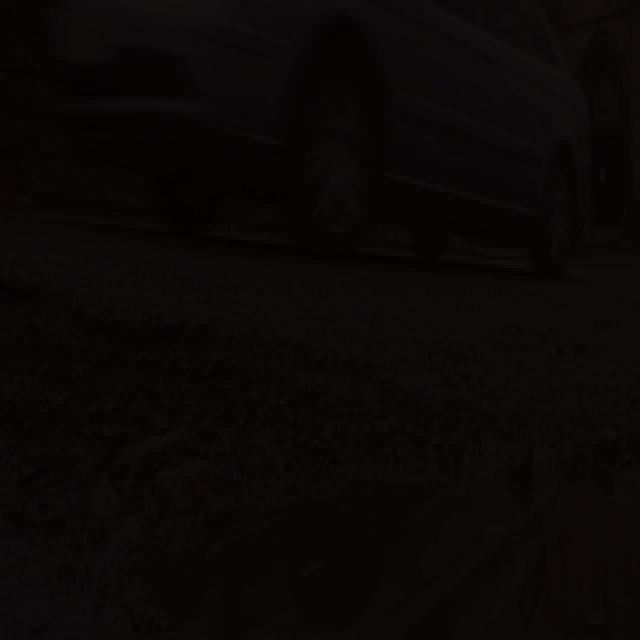Pothole: (0, 254, 640, 640)
